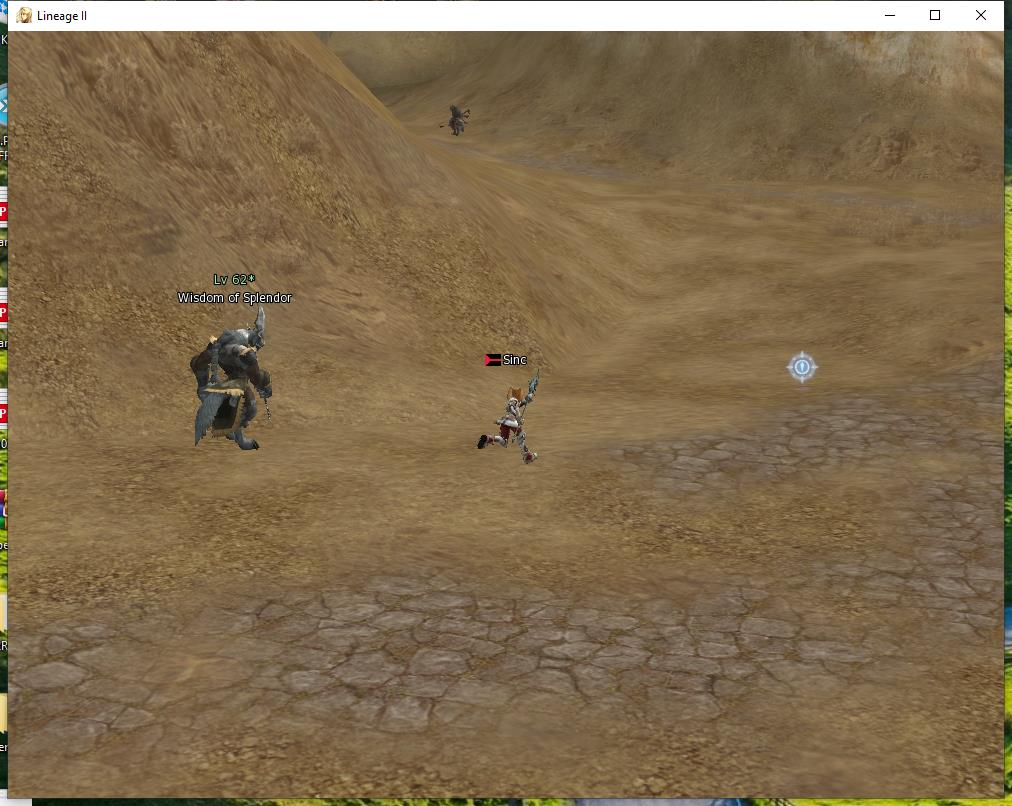monster: (161, 252, 305, 460), (439, 89, 477, 157)
